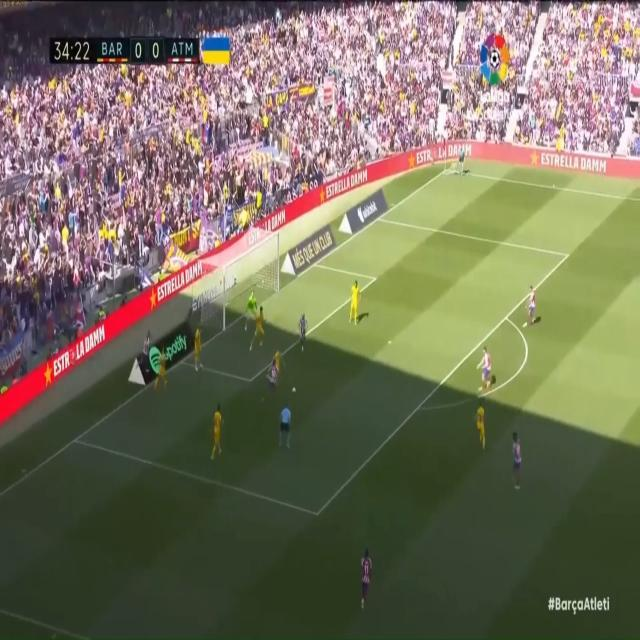ball: (290, 383, 296, 398)
goalkeeper: (243, 285, 259, 336)
player: (352, 538, 377, 627), (208, 397, 226, 472), (508, 421, 525, 499), (468, 400, 490, 455), (261, 352, 280, 412), (187, 318, 205, 380), (295, 309, 316, 362), (522, 274, 539, 338), (345, 275, 363, 332), (255, 299, 272, 359), (273, 340, 289, 400), (157, 339, 173, 395), (478, 339, 494, 391), (139, 318, 152, 378)
referee: (275, 403, 296, 470), (453, 140, 469, 179)
